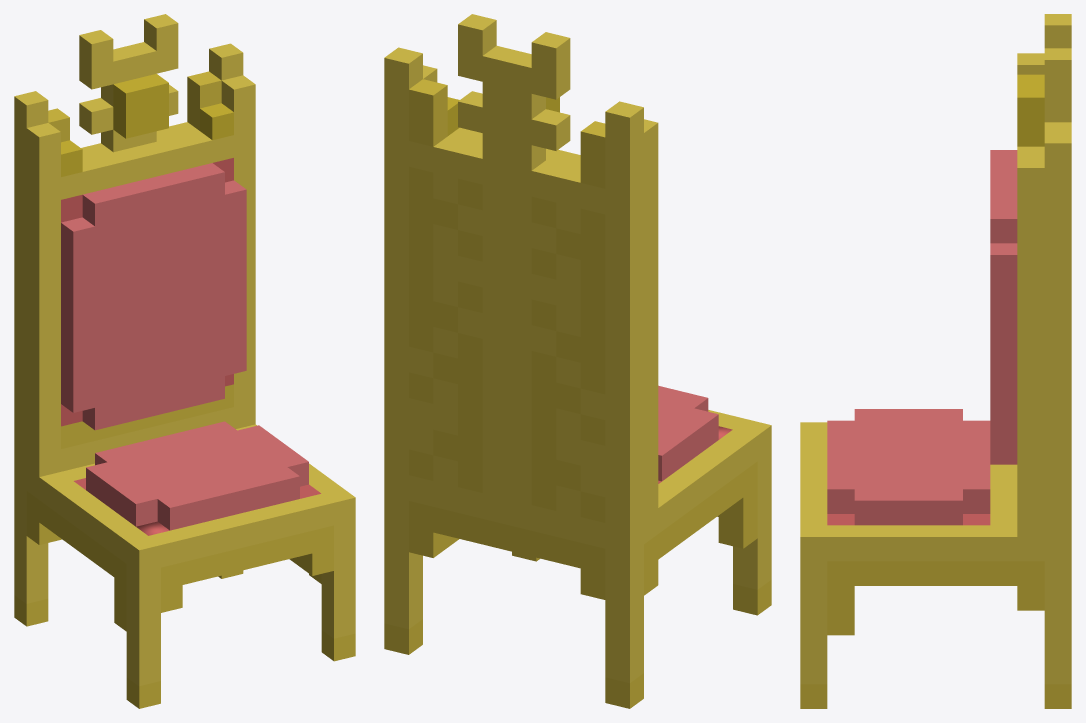
Rendered from Throne.fbx.
3 views of the same model, side by side, from view 1: azimuth 30°, elevation 25°; view 2: azimuth 150°, elevation 25°; view 3: azimuth 270°, elevation 25° (orthographic). The views are drawn at different scales.
Parts seen in each view (by area): view 1: Throne:cube_107, Throne:cube_121, Throne:cube_148, Throne:cube_428, Throne:cube_289, Throne:cube_291, Throne:cube_251, Throne:cube_516, Throne:cube_11, Throne:cube_133, Throne:cube_346, Throne:cube_348 (+92 smaller); view 2: Throne:cube_348, Throne:cube_346, Throne:cube_291, Throne:cube_428, Throne:cube_516, Throne:cube_107, Throne:cube_17, Throne:cube_347, Throne:cube_345, Throne:cube_16, Throne:cube_260, Throne:cube_284 (+190 smaller); view 3: Throne:cube_13, Throne:cube_240, Throne:cube_477, Throne:cube_514, Throne:cube_228, Throne:cube_229, Throne:cube_230, Throne:cube_428, Throne:cube_476, Throne:cube_478, Throne:cube_479, Throne:cube_482 (+73 smaller).
Boxes of the visible parts, x1,y1,x2,y2 form: Throne:cube_107: [187, 71, 221, 108]; Throne:cube_121: [123, 489, 157, 526]; Throne:cube_148: [82, 189, 116, 226]; Throne:cube_428: [144, 14, 178, 50]; Throne:cube_289: [26, 123, 60, 159]; Throne:cube_291: [14, 91, 48, 127]; Throne:cube_251: [126, 536, 160, 572]; Throne:cube_516: [209, 43, 243, 80]; Throne:cube_11: [113, 79, 147, 115]; Throne:cube_133: [157, 493, 191, 530]; Throne:cube_346: [79, 98, 113, 134]; Throne:cube_348: [79, 30, 113, 66]; Throne:cube_348: [531, 32, 570, 73]; Throne:cube_346: [531, 109, 570, 150]; Throne:cube_291: [605, 101, 643, 143]; Throne:cube_428: [458, 14, 496, 55]; Throne:cube_516: [384, 47, 422, 89]; Throne:cube_107: [409, 79, 447, 120]; Throne:cube_17: [718, 513, 757, 548]; Throne:cube_347: [531, 64, 570, 99]; Throne:cube_345: [531, 160, 569, 202]; Throne:cube_16: [605, 673, 643, 708]; Throne:cube_260: [605, 519, 643, 554]; Throne:cube_284: [605, 210, 643, 246]; Throne:cube_13: [1017, 86, 1044, 122]; Throne:cube_240: [990, 243, 1017, 279]; Throne:cube_477: [827, 525, 854, 561]; Throne:cube_514: [1017, 156, 1044, 192]; Throne:cube_228: [990, 207, 1017, 243]; Throne:cube_229: [854, 489, 881, 525]; Throne:cube_230: [881, 489, 908, 525]; Throne:cube_428: [1044, 48, 1071, 84]; Throne:cube_476: [800, 525, 827, 561]; Throne:cube_478: [854, 525, 881, 561]; Throne:cube_479: [881, 525, 908, 561]; Throne:cube_482: [963, 525, 990, 561].
Bounding box in the file's own units: 10 × 25 × 10.
